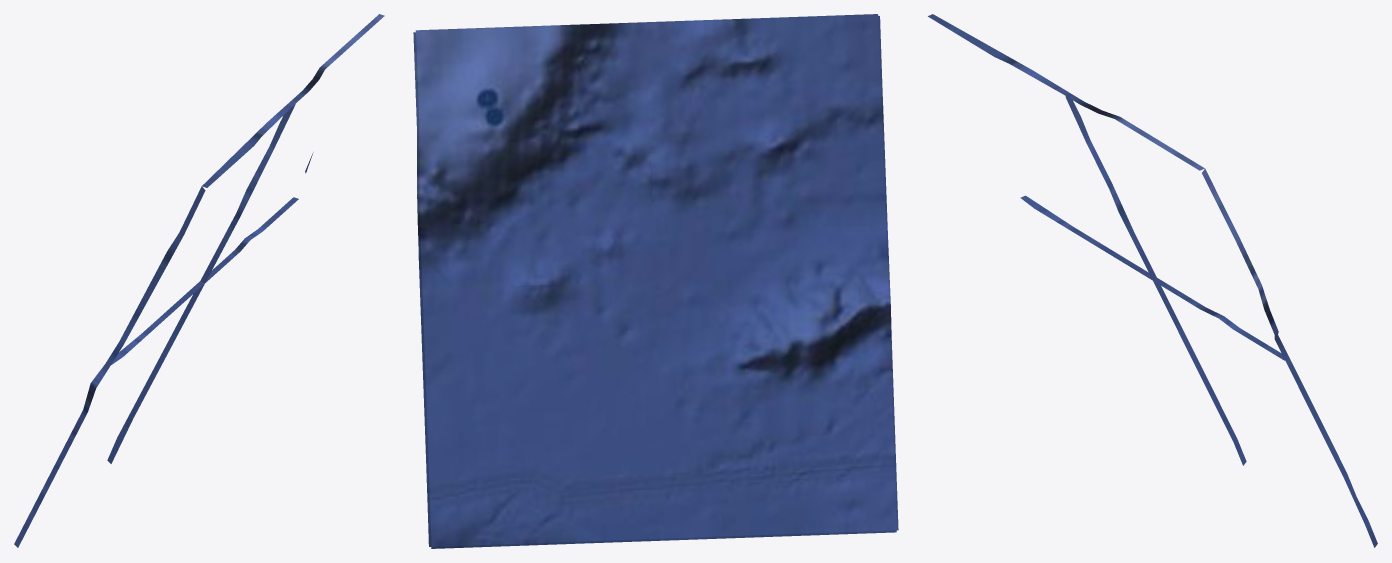
The picture shows the model from 3 angles, left to right: view 1: azimuth 30°, elevation 25°; view 2: azimuth 150°, elevation 25°; view 3: azimuth 270°, elevation 25°; orthographic projection. The views are drawn at different scales.
Bounding box in the file's own units: 77132 × 72182 × 68754.
1 material, 1 textured.
